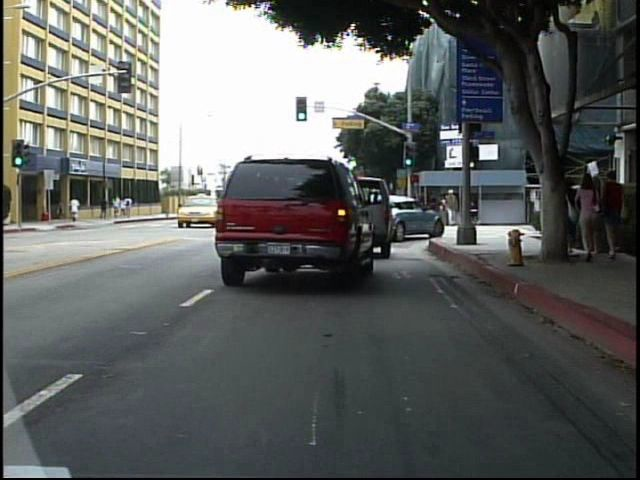person: (600, 168, 631, 260), (574, 174, 604, 267), (444, 187, 461, 229), (68, 194, 83, 225)
